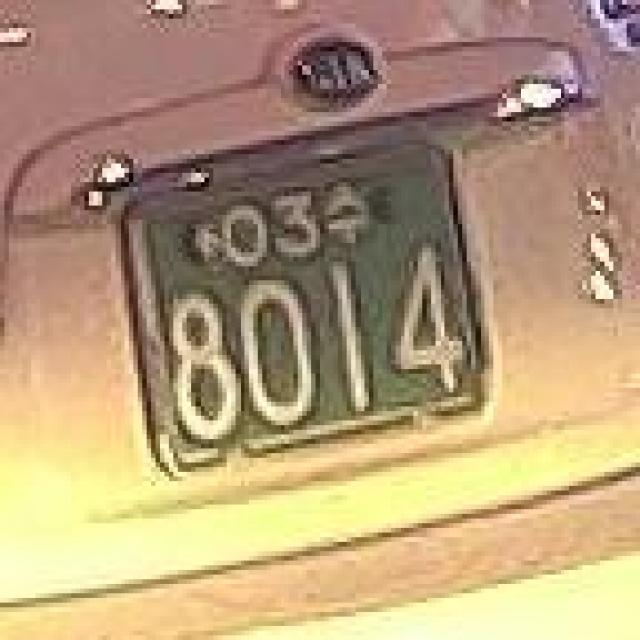illegal_plate: (106, 118, 501, 497)
